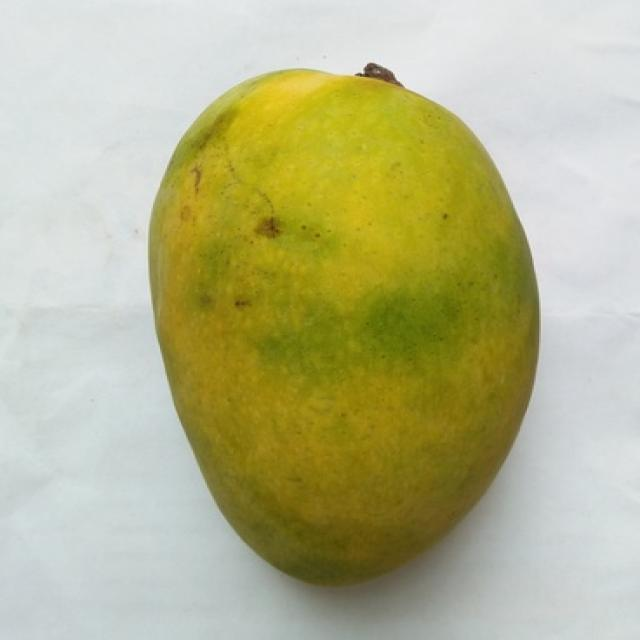Mango: (150, 70, 537, 583)
